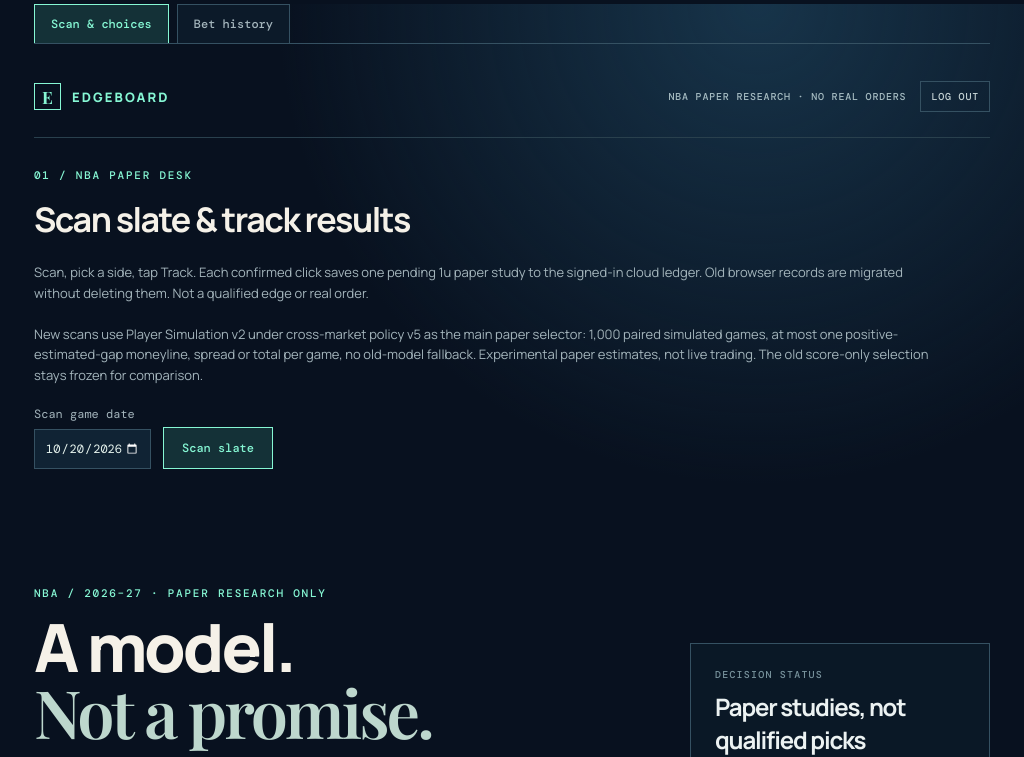
it: October 20 NBA Kalshi checklist › switches to an NBA-only bet history tab even without a current scan
The width and height of the screenshot is (1024, 757).
What coordinates should you click on to do the following:
click the tab "Bet history"
I would click on:
 (233, 24)
Its box is [177,4,290,43].
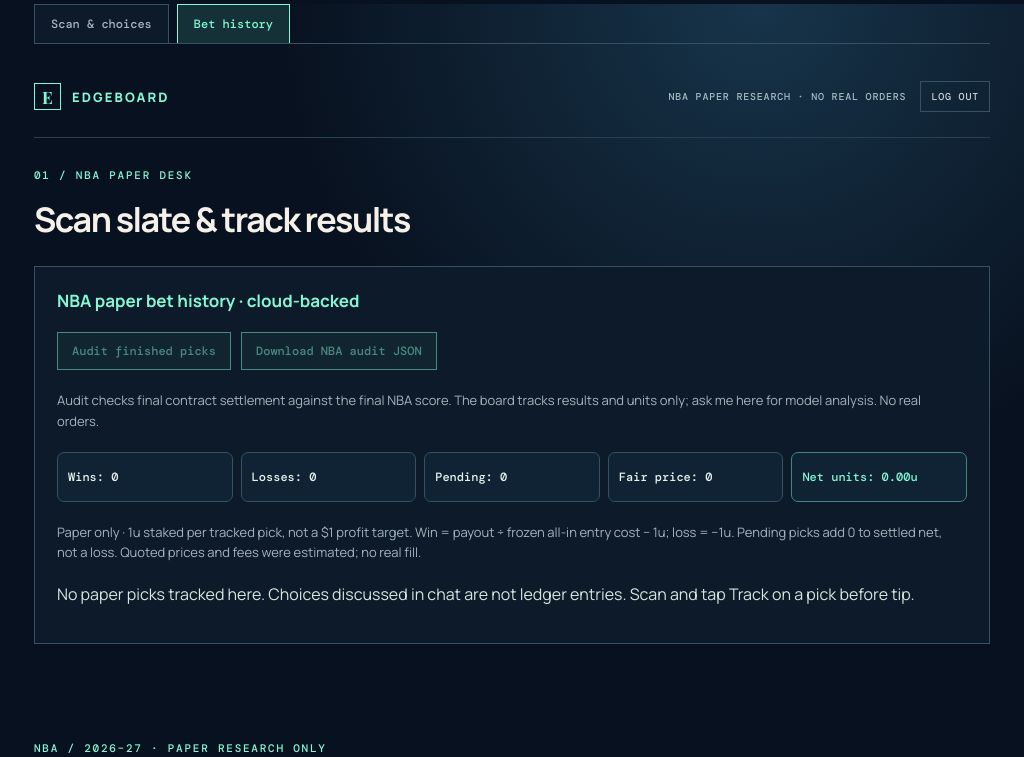
Check: the text "No paper picks tracked here" is shown, box [57,583,915,605]
What coordinates should you click on to do the following:
click the tab "Scan & choices"
I would click on:
 (101, 24)
Its box is [34,4,169,43].
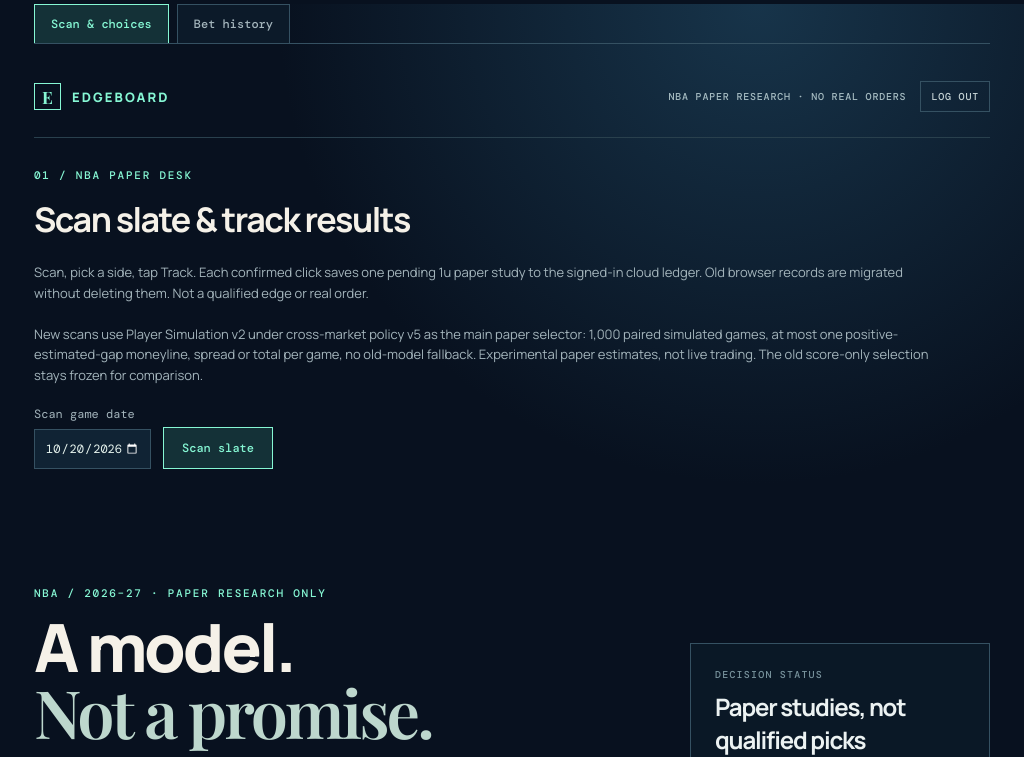
Check: the button "Scan slate" is shown, box [163,427,273,469]
